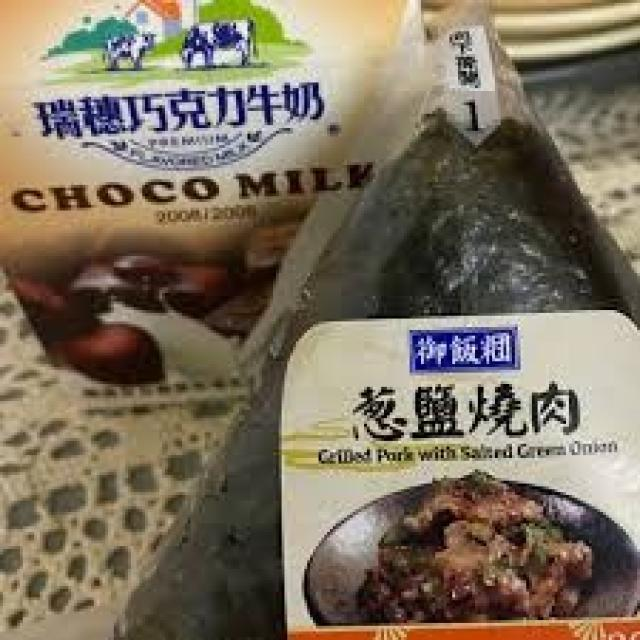RuiSui_ChocoMilk: (0, 0, 372, 369)
